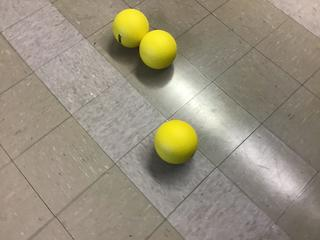power_cell: (152, 118, 205, 167), (112, 6, 149, 50), (141, 26, 177, 71)
